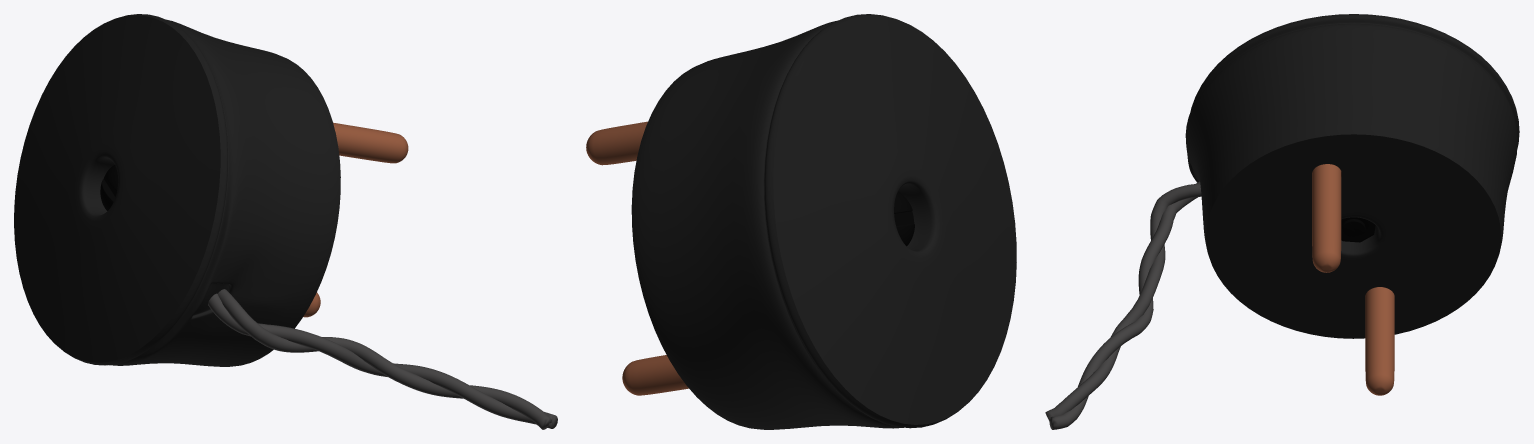
The model's file is vilka elektr 1.fbx.
The picture shows the model from 3 angles, left to right: view 1: azimuth 30°, elevation 25°; view 2: azimuth 150°, elevation 25°; view 3: azimuth 270°, elevation 25°; orthographic projection. The views are drawn at different scales.
Parts seen in each view (by area): view 1: korp, provd, stir2, bolt; view 2: korp, stir2, stir1, bolt; view 3: korp, provd, stir2, stir1.
Part boxes in pixels (x1,y1,x2,y2): korp: (14, 14, 340, 366); provd: (208, 289, 557, 429); stir2: (333, 122, 408, 163); bolt: (100, 165, 118, 210); korp: (631, 14, 1016, 429); stir2: (586, 121, 647, 165); stir1: (622, 355, 688, 395); bolt: (894, 192, 914, 246); korp: (1185, 14, 1519, 338); provd: (1045, 181, 1201, 429); stir2: (1312, 164, 1341, 272); stir1: (1365, 287, 1394, 395).
Size of what is drawn, in the model's own units: 43.14 by 41.42 by 56.45.
